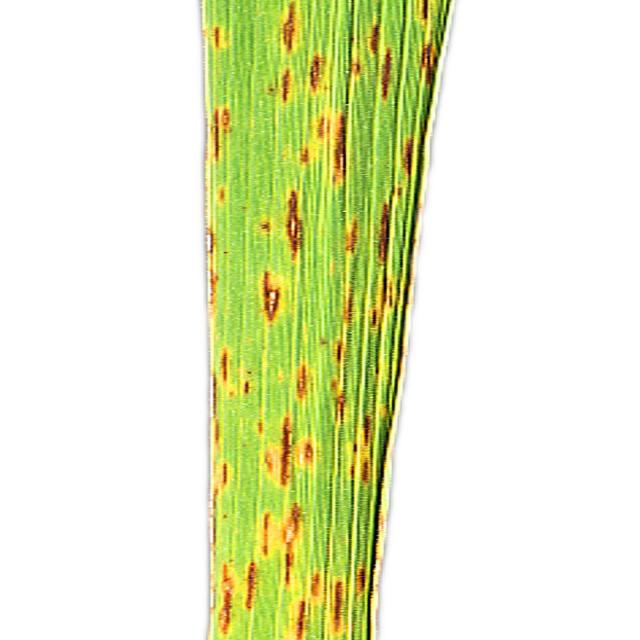Narrow brown: (167, 0, 468, 640)
